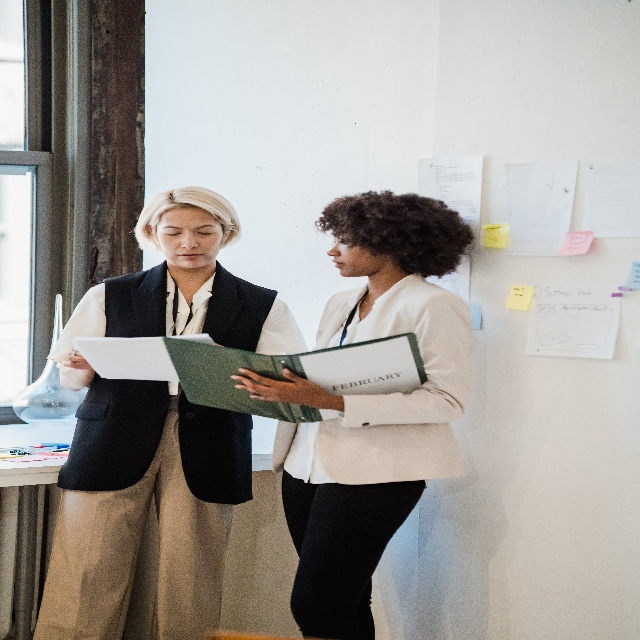Sin_guantes: (231, 368, 327, 410), (63, 346, 91, 369)
